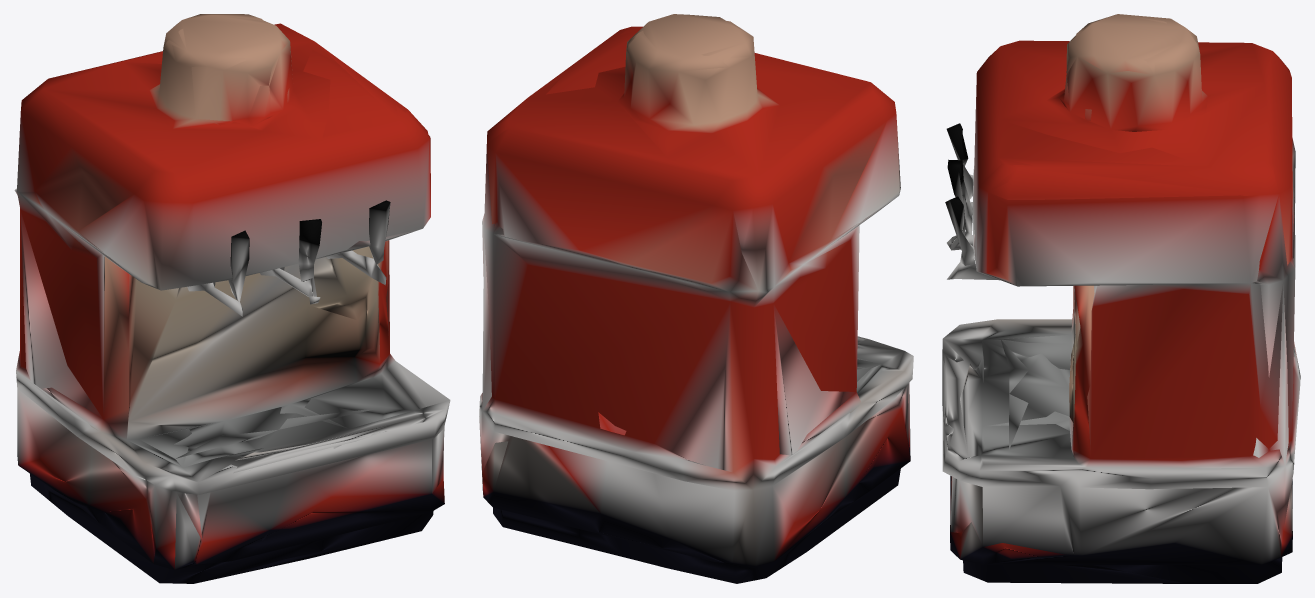
File: gen3d-soda-fountain-lod1.glb
3 views of the same model, side by side, from view 1: azimuth 30°, elevation 25°; view 2: azimuth 150°, elevation 25°; view 3: azimuth 270°, elevation 25° (orthographic). The views are drawn at different scales.
Parts seen in each view (by area): view 1: part_0; view 2: part_0; view 3: part_0.
Part boxes in pixels (left/top/right/bottom): part_0: left=14, top=14, right=450, bottom=583; part_0: left=479, top=14, right=913, bottom=583; part_0: left=942, top=14, right=1300, bottom=583.
Bounding box in the file's own units: 0.6766 × 0.9983 × 0.6743.
